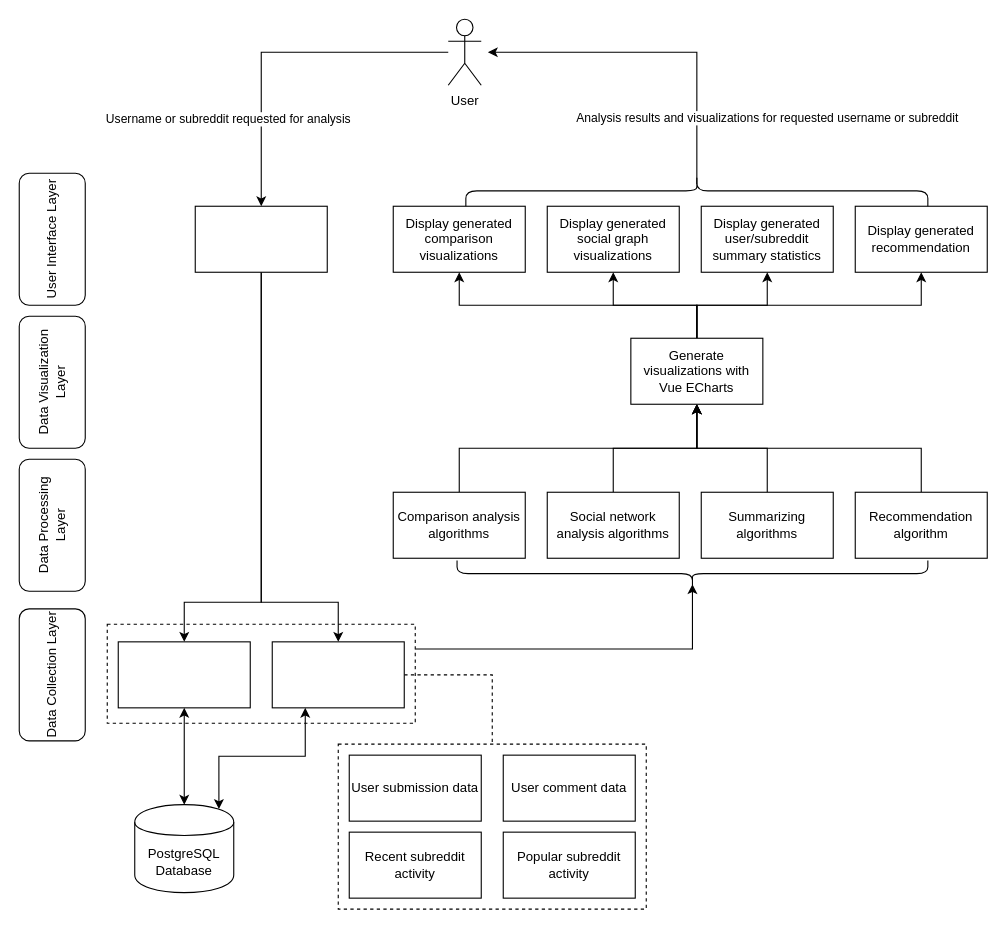
This 1007x928 diagram has some shape labels left out. The shapes that lost their labels are listed below. From the top down, each one's box as (x1, y1, x2, y2) in pixels, then its label:
(194, 205, 327, 272): Vue UI with input field
(117, 641, 250, 708): Access historical Reddit data from BigQuery
(271, 641, 404, 708): Collect recent Reddit data via Reddit Live API (Python)
